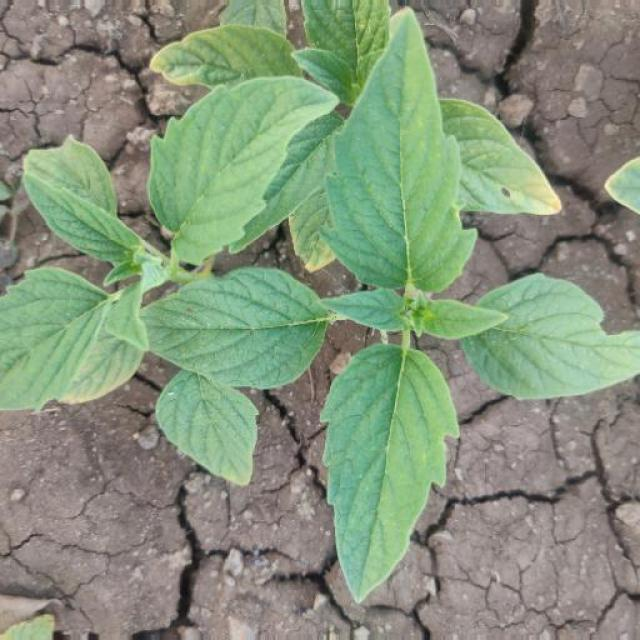crop: (19, 8, 612, 598)
